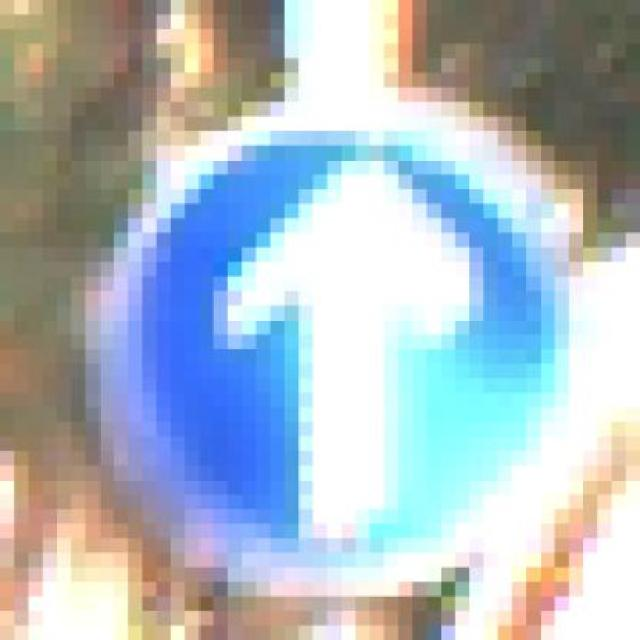Straight Ahead Only: (93, 84, 592, 608)
